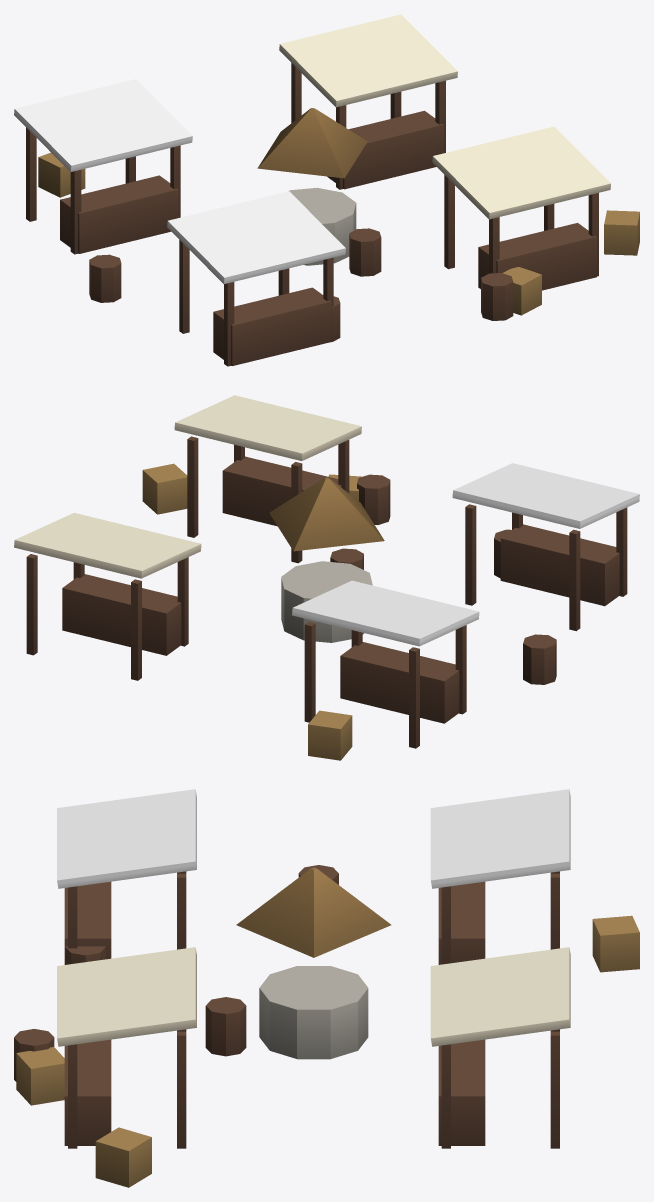
File: MARKET_NE.glb
The picture shows the model from 3 angles, top to bottom: view 1: azimuth 30°, elevation 25°; view 2: azimuth 150°, elevation 25°; view 3: azimuth 270°, elevation 25°; orthographic projection. The views are drawn at different scales.
Parts seen in each view (by area): view 1: Body; view 2: Body; view 3: Body.
Part boxes in pixels (x1,y1,x2,y2): Body: (14,14,639,366); Body: (14,395,639,760); Body: (14,789,639,1187).
Bounding box in the file's own units: 4.26 × 1.2 × 4.02.
Materials: 1 (1 with a texture image).
